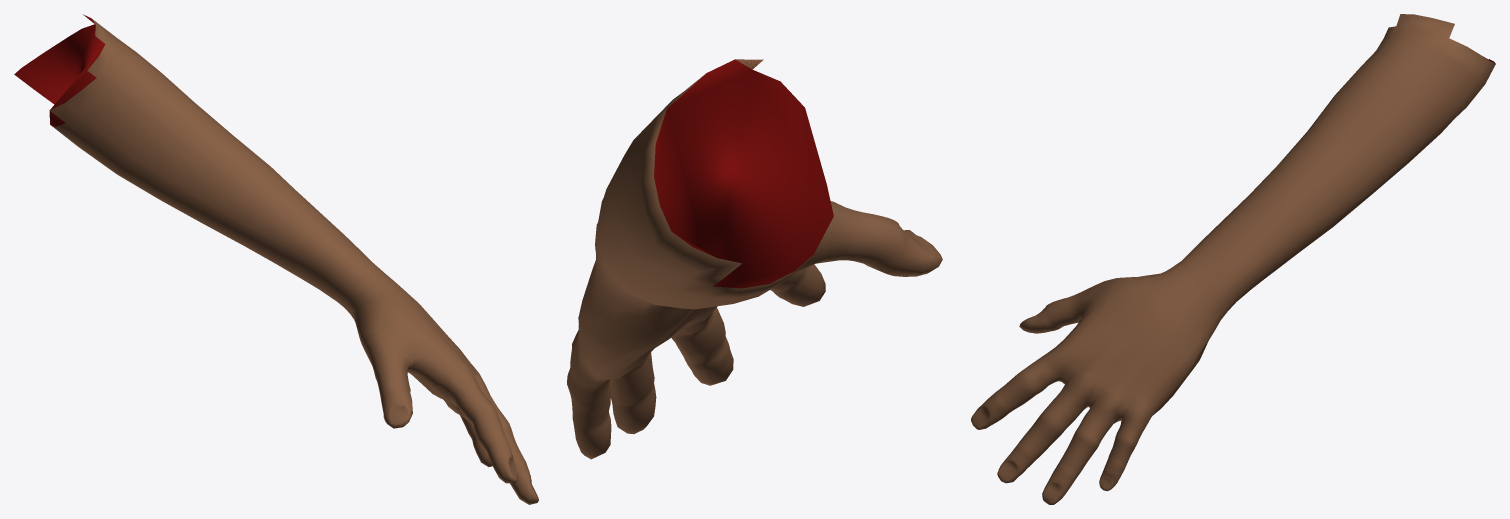
The model's file is SM_Part_M3_arm_l.gltf.
3 views of the same model, side by side, from view 1: azimuth 30°, elevation 25°; view 2: azimuth 150°, elevation 25°; view 3: azimuth 270°, elevation 25° (orthographic). The views are drawn at different scales.
Visible parts, largest first — view 1: SM_Part_M3_arm_l; view 2: SM_Part_M3_arm_l; view 3: SM_Part_M3_arm_l.
Part boxes in pixels (x1,y1,x2,y2): SM_Part_M3_arm_l: [14, 14, 538, 504]; SM_Part_M3_arm_l: [567, 59, 942, 459]; SM_Part_M3_arm_l: [971, 14, 1495, 504].
Size of the model in its own units: 0.2333 by 0.2933 by 0.3715.
